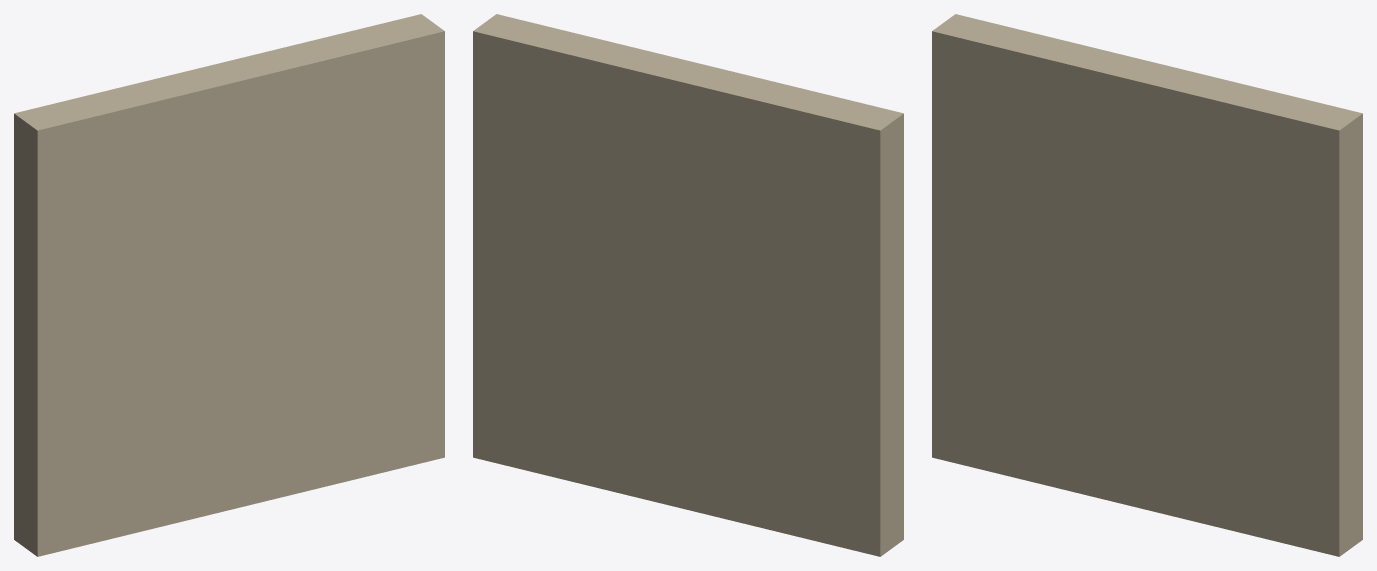
File: wand_1x1.glb
The picture shows the model from 3 angles, left to right: view 1: azimuth 30°, elevation 25°; view 2: azimuth 150°, elevation 25°; view 3: azimuth 330°, elevation 25°; orthographic projection.
Parts seen in each view (by area): view 1: wand_1x1; view 2: wand_1x1; view 3: wand_1x1.
Boxes of the visible parts, box(x1,y1,x2,y2) form: wand_1x1: box(14, 14, 444, 556); wand_1x1: box(473, 14, 903, 556); wand_1x1: box(932, 14, 1362, 556).
Size of the model in its own units: 1 by 1 by 0.1.
